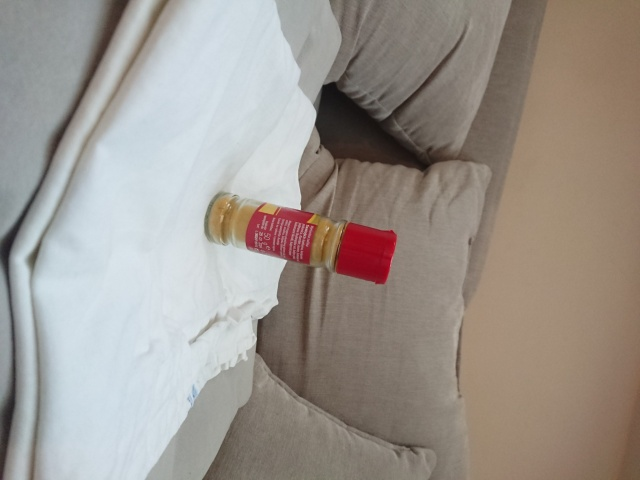Kotanyi Curry Spices Mix 70g: (203, 188, 398, 286)
